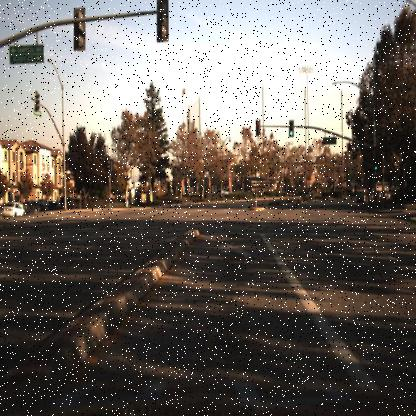car: (25, 198, 41, 219), (27, 201, 44, 217)
trafficLight-Green: (288, 118, 295, 139), (370, 158, 378, 176), (372, 163, 380, 177), (286, 127, 294, 139)
trafficLight-RedLeft: (256, 118, 261, 132)
